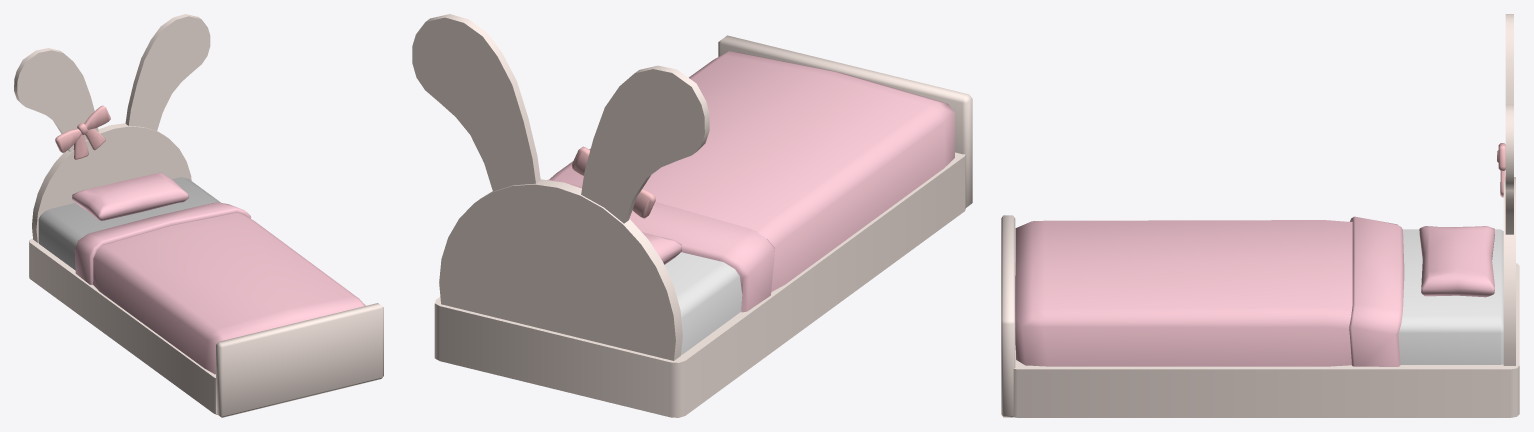
The model's file is Bed_K.fbx.
3 views of the same model, side by side, from view 1: azimuth 30°, elevation 25°; view 2: azimuth 150°, elevation 25°; view 3: azimuth 270°, elevation 25° (orthographic). The views are drawn at different scales.
Visible parts, largest first — view 1: polySurface1, polySurface4, polySurface7, polySurface6, polySurface2, Bed_13_Pillow, polySurface9.001; view 2: polySurface4, polySurface1, polySurface6, polySurface2, polySurface7, polySurface9.001, Bed_13_Pillow; view 3: polySurface1, polySurface6, polySurface2, Bed_13_Pillow, polySurface4, polySurface7.
Boxes of the visible parts, x1,y1,x2,y2 form: polySurface1: (74,202,365,374); polySurface4: (14,14,210,242); polySurface7: (216,303,383,417); polySurface6: (29,238,217,414); polySurface2: (38,177,220,270); Bed_13_Pillow: (72,172,188,220); polySurface9.001: (55,105,110,159); polySurface4: (412,14,709,360); polySurface1: (547,51,954,312); polySurface6: (434,152,965,417); polySurface2: (664,252,742,354); polySurface7: (718,35,972,207); polySurface9.001: (572,146,655,218); Bed_13_Pillow: (642,232,681,264); polySurface1: (1015,216,1404,366); polySurface6: (1012,262,1519,417); polySurface2: (1398,229,1503,364); Bed_13_Pillow: (1419,226,1494,297); polySurface4: (1503,14,1515,365); polySurface7: (1001,215,1015,417).
Bounding box in the file's own units: 119 × 133 × 206.
